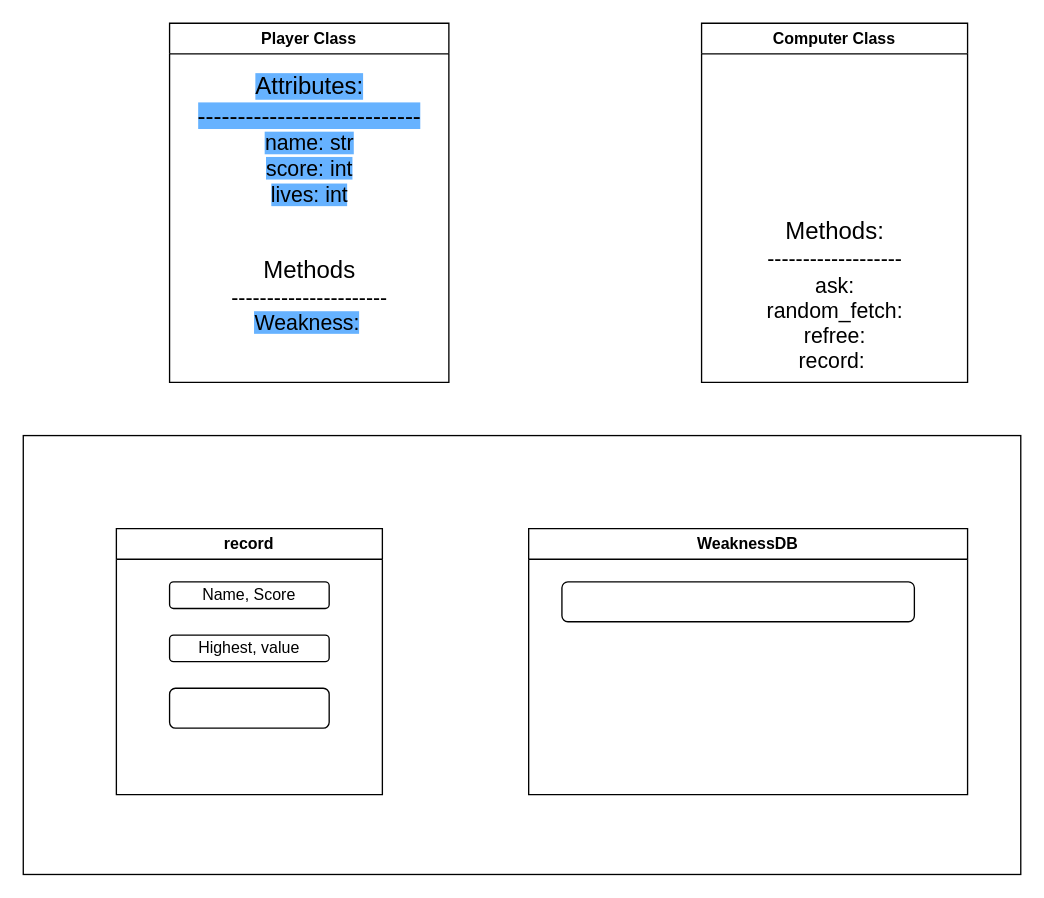
The diagram is 1044 pixels wide and 898 high, and some of its shapes have lost their labels. Each missing label, with the centre of its shape:
"name, country1, country2, country3, ..., country5" goes at (x=737, y=601).
"Name1, score1" goes at (x=248, y=707).
